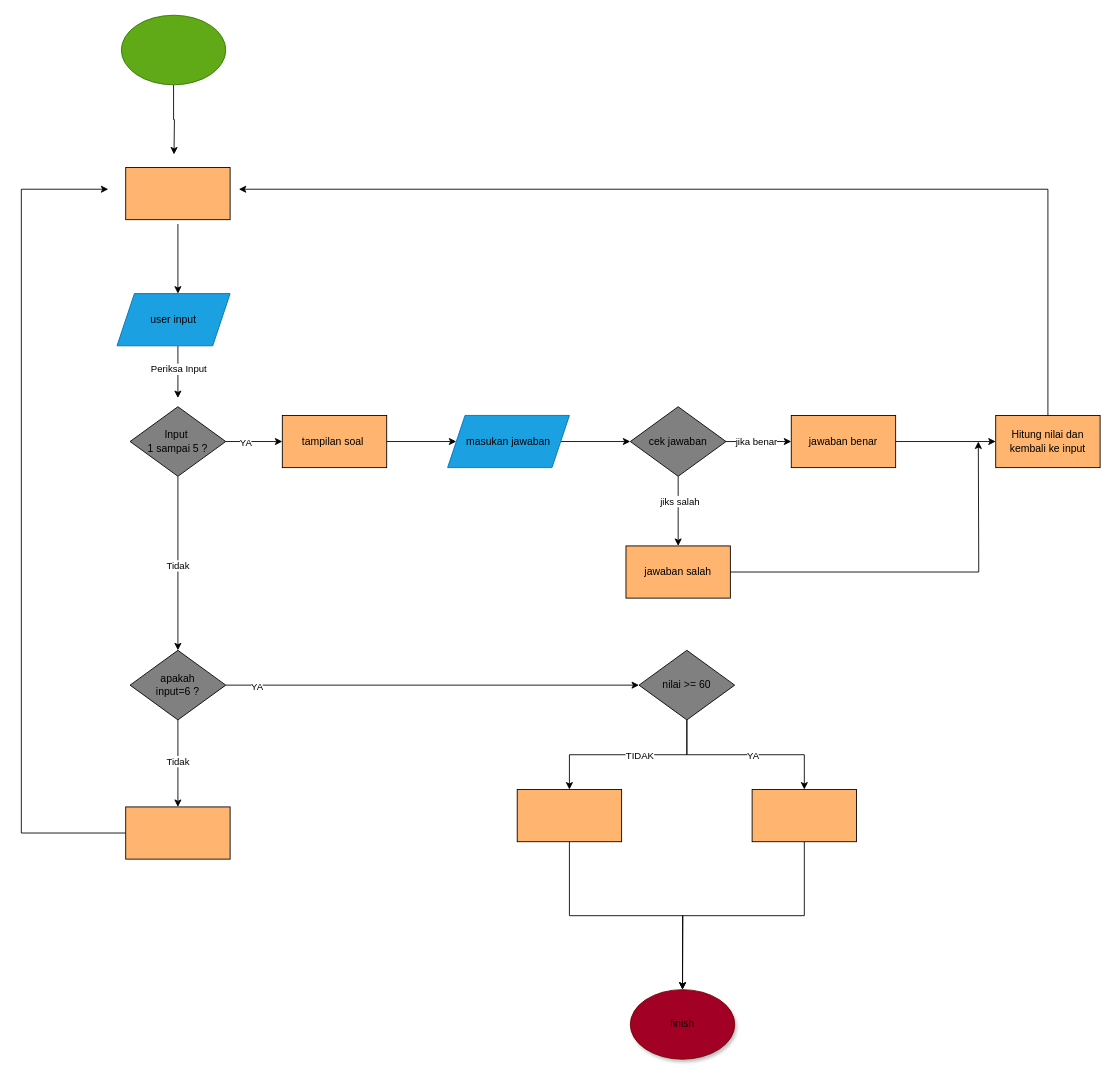
Some shapes in this 1115 by 1081 pixel diagram are drawn without their labels. Here are the shapes that lost their labels. From the top down, the centre of each, then its label:
(x=173, y=49): start
(x=177, y=193): Tampilkan Menu Pilihan
(x=177, y=832): Cetak "input tidak valid"
(x=569, y=815): TIdak Lulus
(x=804, y=815): Lulus
